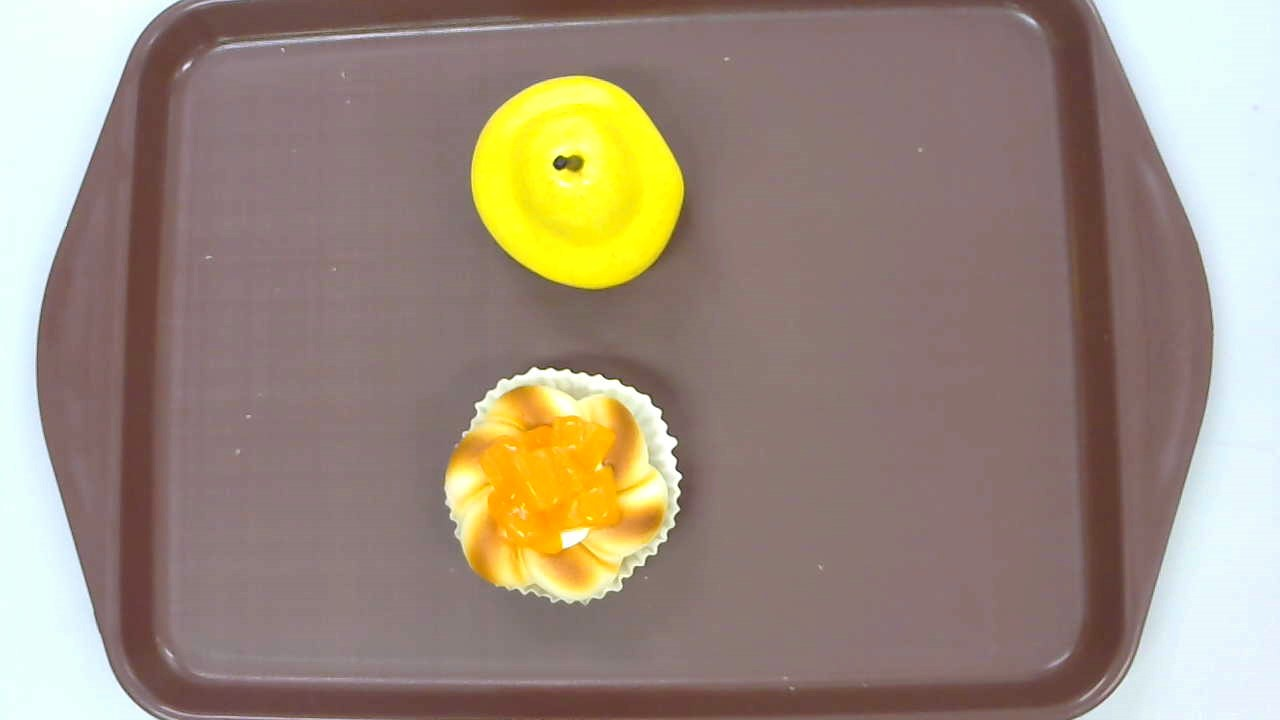mango tart: (443, 366, 684, 606)
yellow pear: (469, 76, 684, 290)
